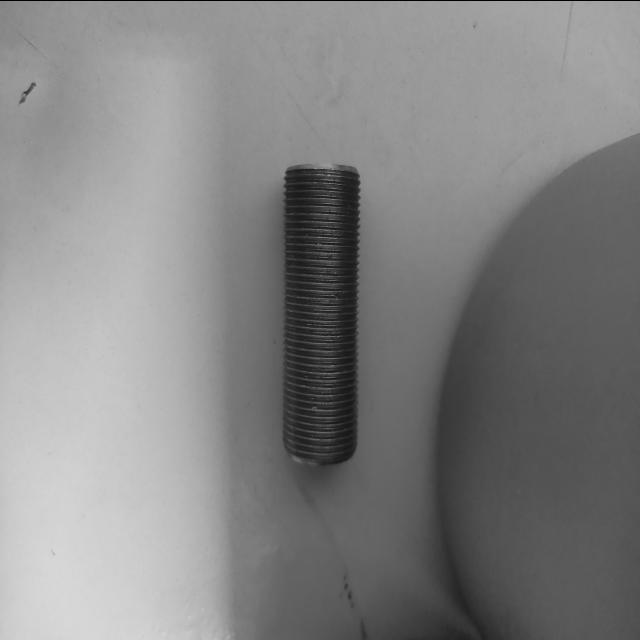Normal: (282, 161, 362, 464)
